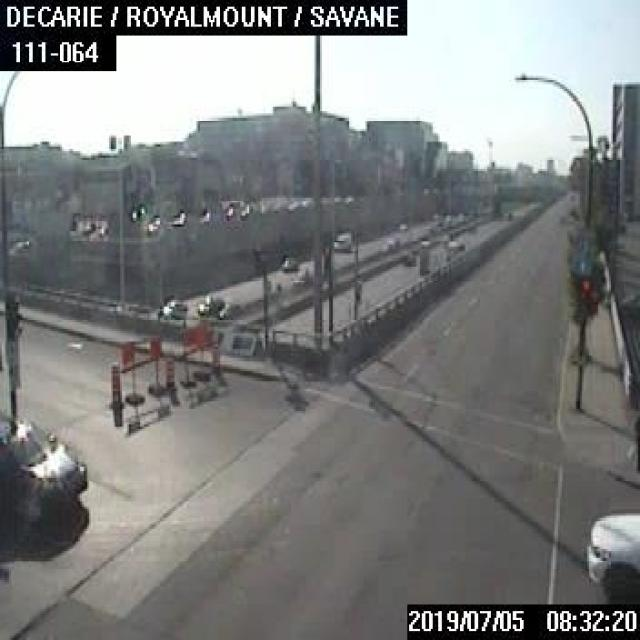construction: (179, 323, 209, 382), (120, 341, 143, 402), (148, 334, 160, 392), (106, 361, 121, 407), (162, 353, 174, 387), (209, 339, 218, 370)
vehicle: (0, 411, 87, 502), (582, 507, 638, 602), (194, 291, 231, 320), (160, 296, 189, 320), (280, 253, 300, 271), (331, 229, 349, 249), (418, 233, 436, 249), (445, 233, 462, 247), (394, 220, 406, 231)
